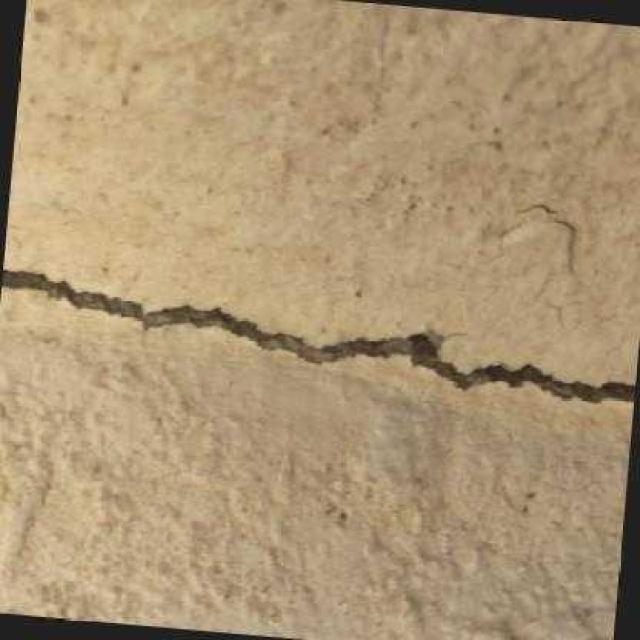D00: (2, 270, 636, 404)
